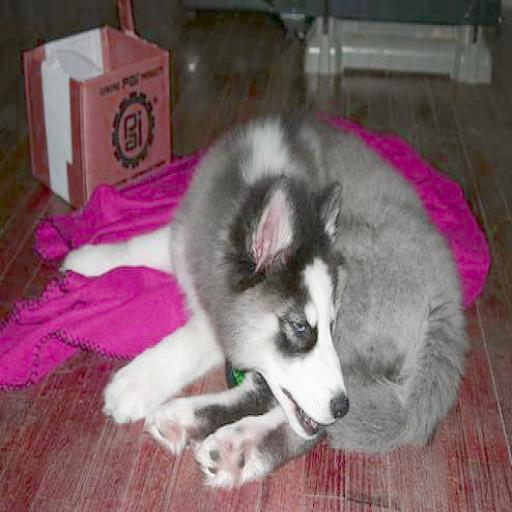dog_face: (228, 177, 350, 432)
